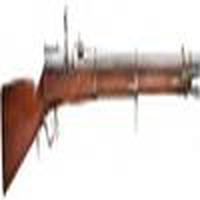gun: (1, 27, 197, 187)
